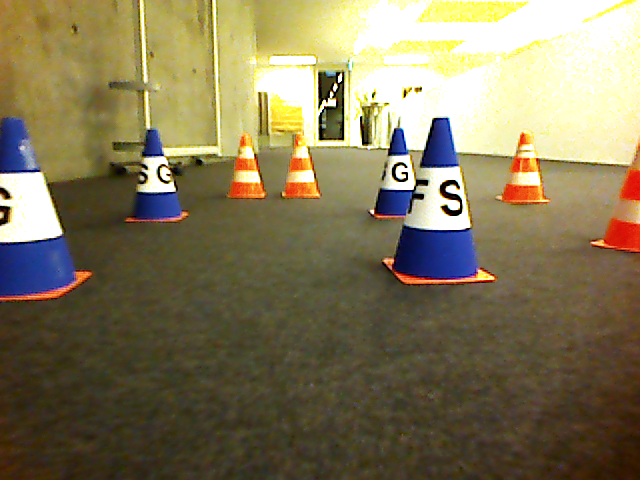bluecone: (381, 117, 498, 287), (1, 118, 94, 303), (121, 128, 189, 224), (367, 124, 410, 219)
orangeconesmall: (590, 131, 640, 255), (496, 129, 552, 205), (280, 133, 323, 200), (225, 134, 268, 200)
